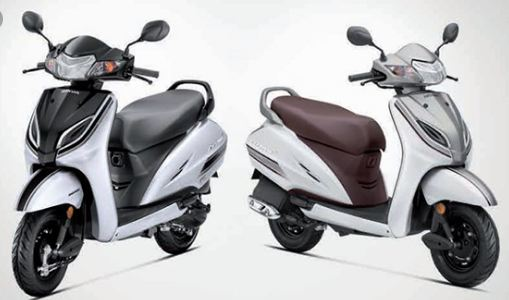bike: (245, 8, 502, 299), (12, 8, 227, 298)
